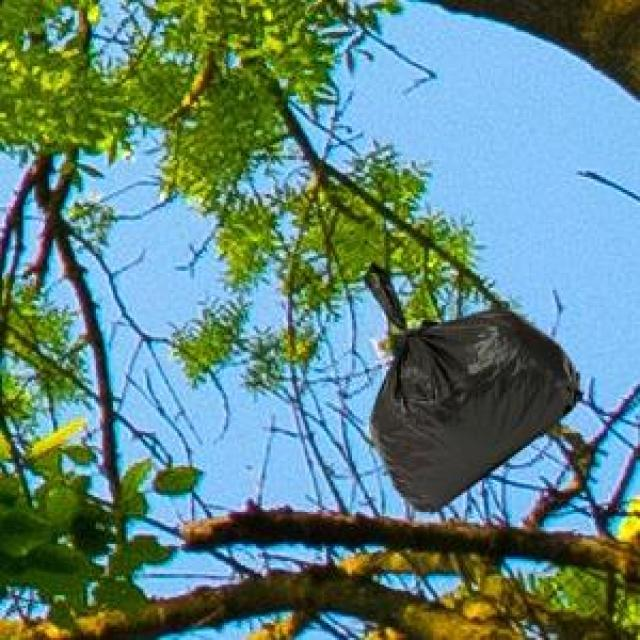Garbage_Bag: (362, 259, 580, 509)
